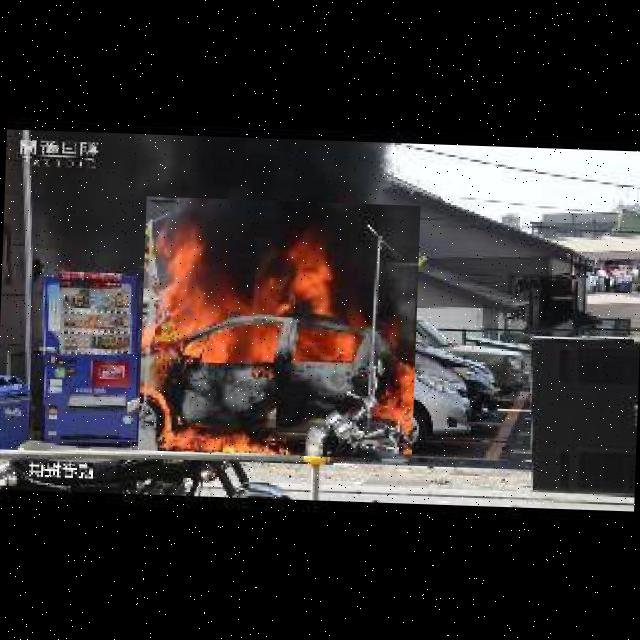fire: (137, 196, 420, 459)
